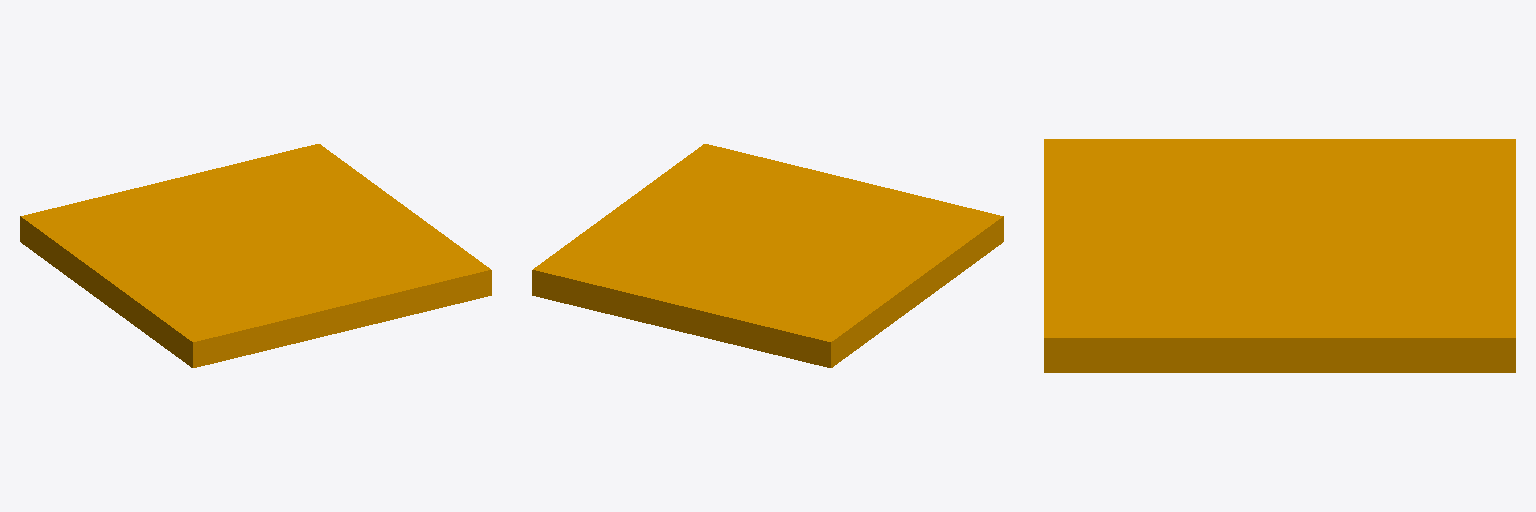
robot.urdf — factory_round_hole_16mm:
<?xml version="1.0"?>
<robot name="factory_round_hole_16mm">
    <link name="factory_round_hole_16mm">
        <visual>
            <origin rpy="0 0 0" xyz="0 0 0.0125"/>
            <geometry>
                <box size="0.3 0.3 0.025"/>
            </geometry>
        </visual>
        <collision>
            <origin rpy="0 0 0" xyz="0 0 0.0125"/>
            <geometry>
                <box size="0.3 0.3 0.025"/>
            </geometry>
        </collision>
    </link>
</robot>

--- Facts derived from the render (not from the file) ---
The picture shows the robot from 3 angles, left to right: view 1: azimuth 30°, elevation 25°; view 2: azimuth 150°, elevation 25°; view 3: azimuth 270°, elevation 25°; orthographic projection.
Robot: factory_round_hole_16mm — 1 links, 0 joints (none); root link factory_round_hole_16mm; default pose: all joints at 0.
Visible links, largest first — view 1: factory_round_hole_16mm; view 2: factory_round_hole_16mm; view 3: factory_round_hole_16mm.
Link boxes in pixels (x1=…): factory_round_hole_16mm: x1=20, y1=144, x2=491, y2=367; factory_round_hole_16mm: x1=532, y1=144, x2=1003, y2=367; factory_round_hole_16mm: x1=1044, y1=139, x2=1515, y2=372.
Size in the robot's own frame: 0.3 by 0.3 by 0.025 metres.
Geometry: primitives only (box / cylinder / sphere), no mesh files.
